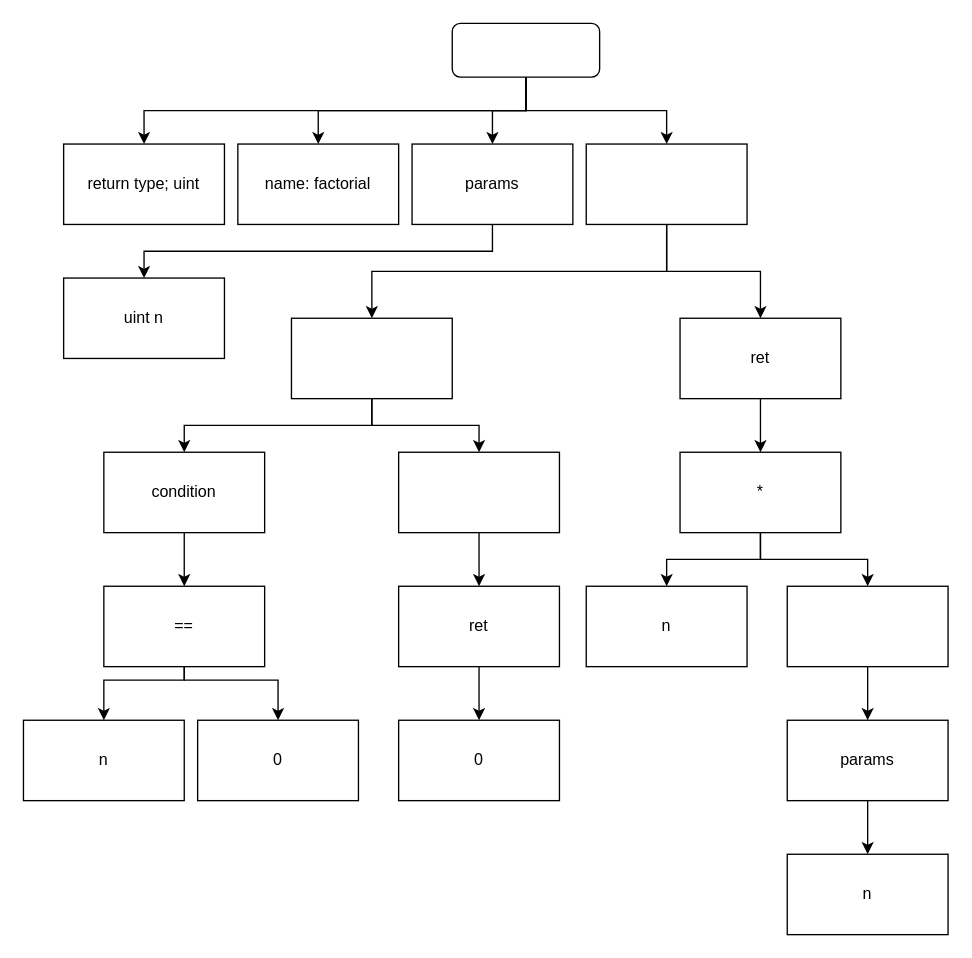
Some shapes in this 972 by 958 pixel diagram are drawn without their labels. Here are the shapes that lost their labels. From the top down, the box of each, then its label:
(451, 22, 600, 77): func
(585, 143, 747, 224): body
(290, 317, 452, 399): if
(397, 451, 559, 533): if block
(786, 585, 948, 667): function call: factorial
